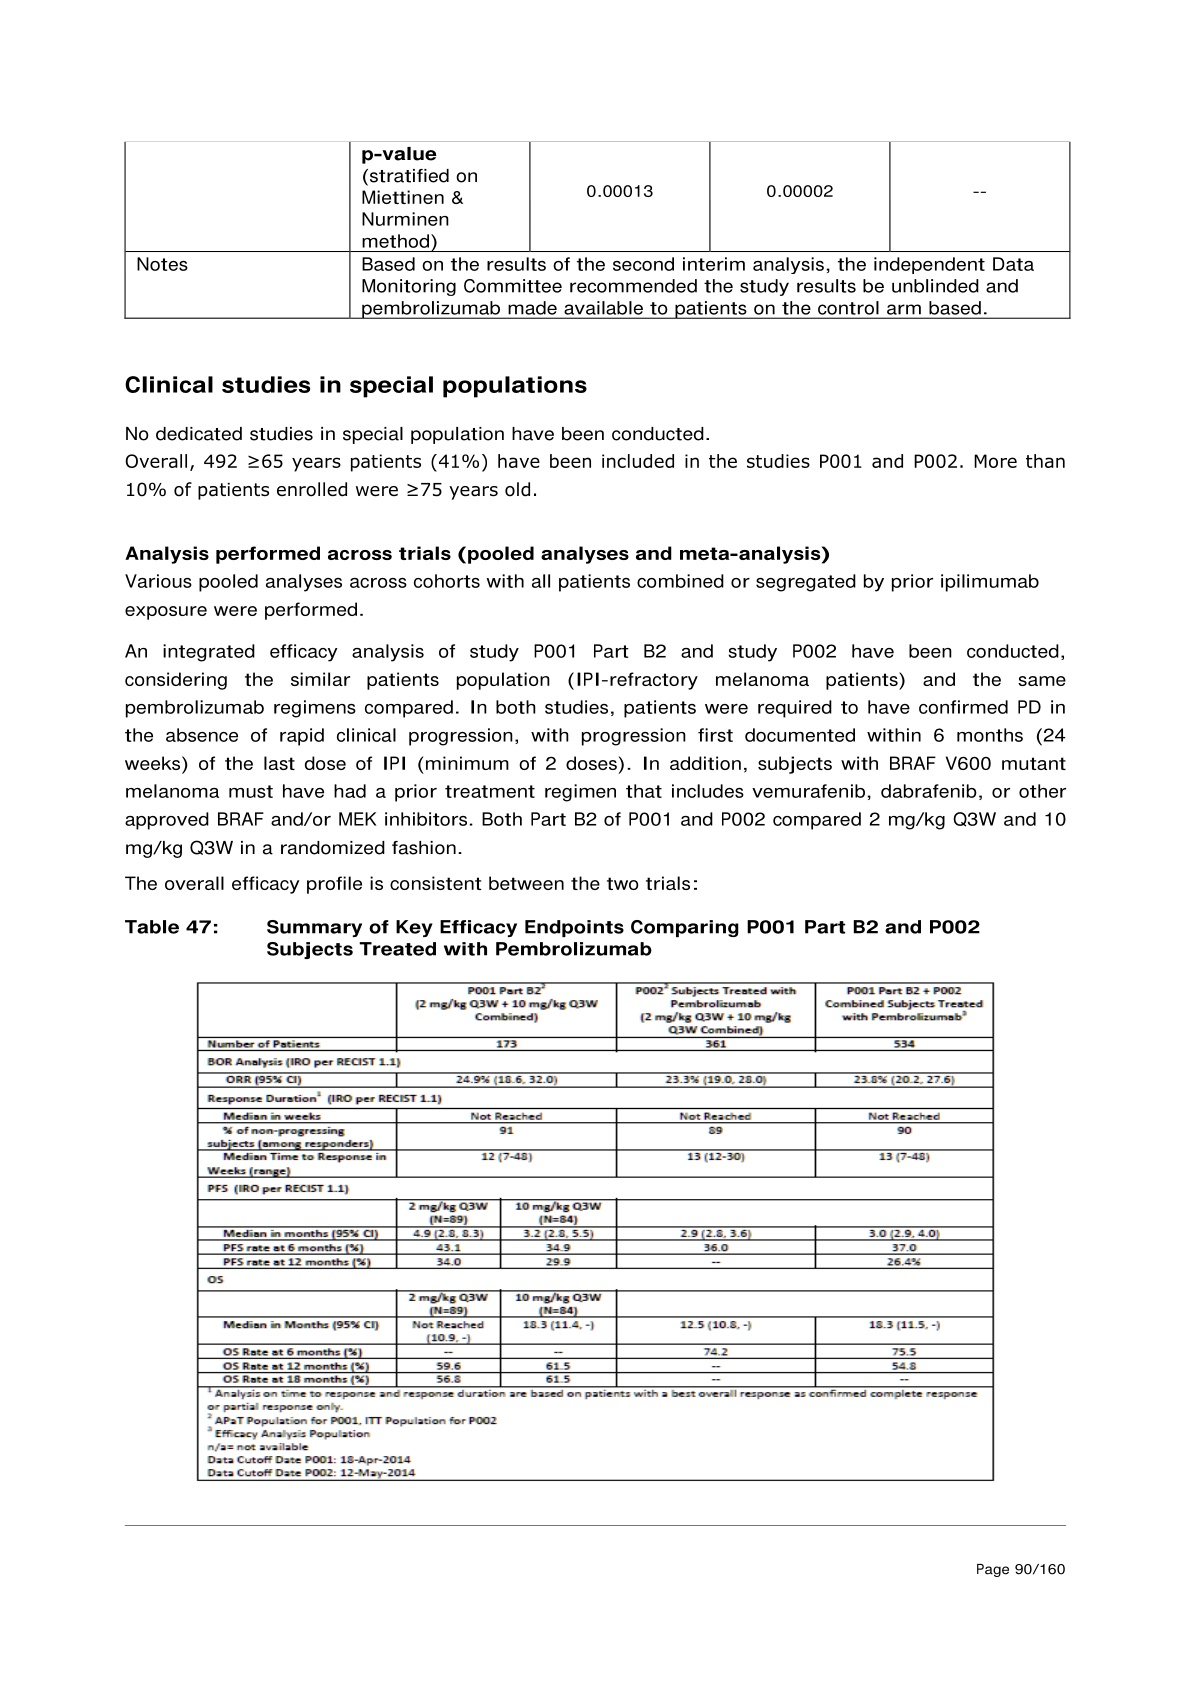merged_cells: (196, 981, 995, 1482), (122, 140, 1071, 320)
